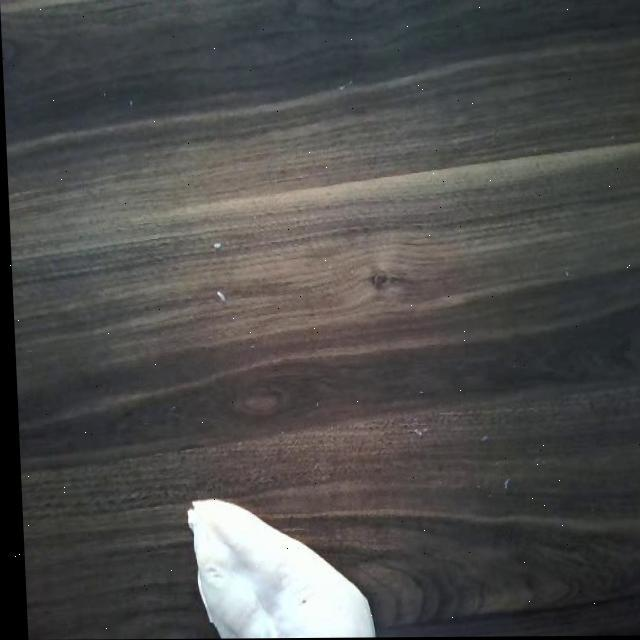breast: (178, 502, 368, 639)
